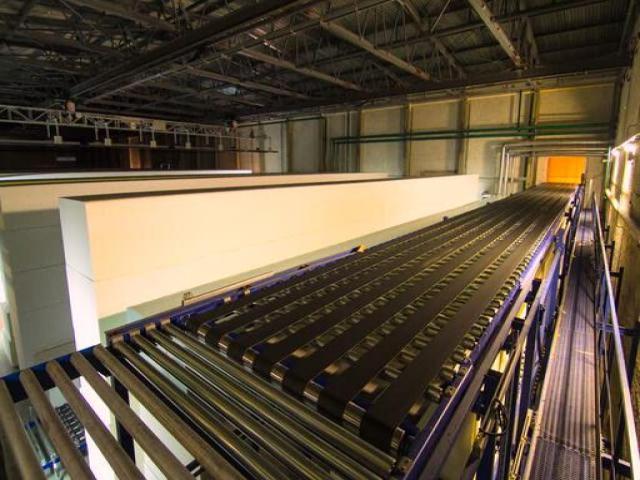conveyor: (0, 178, 588, 479)
